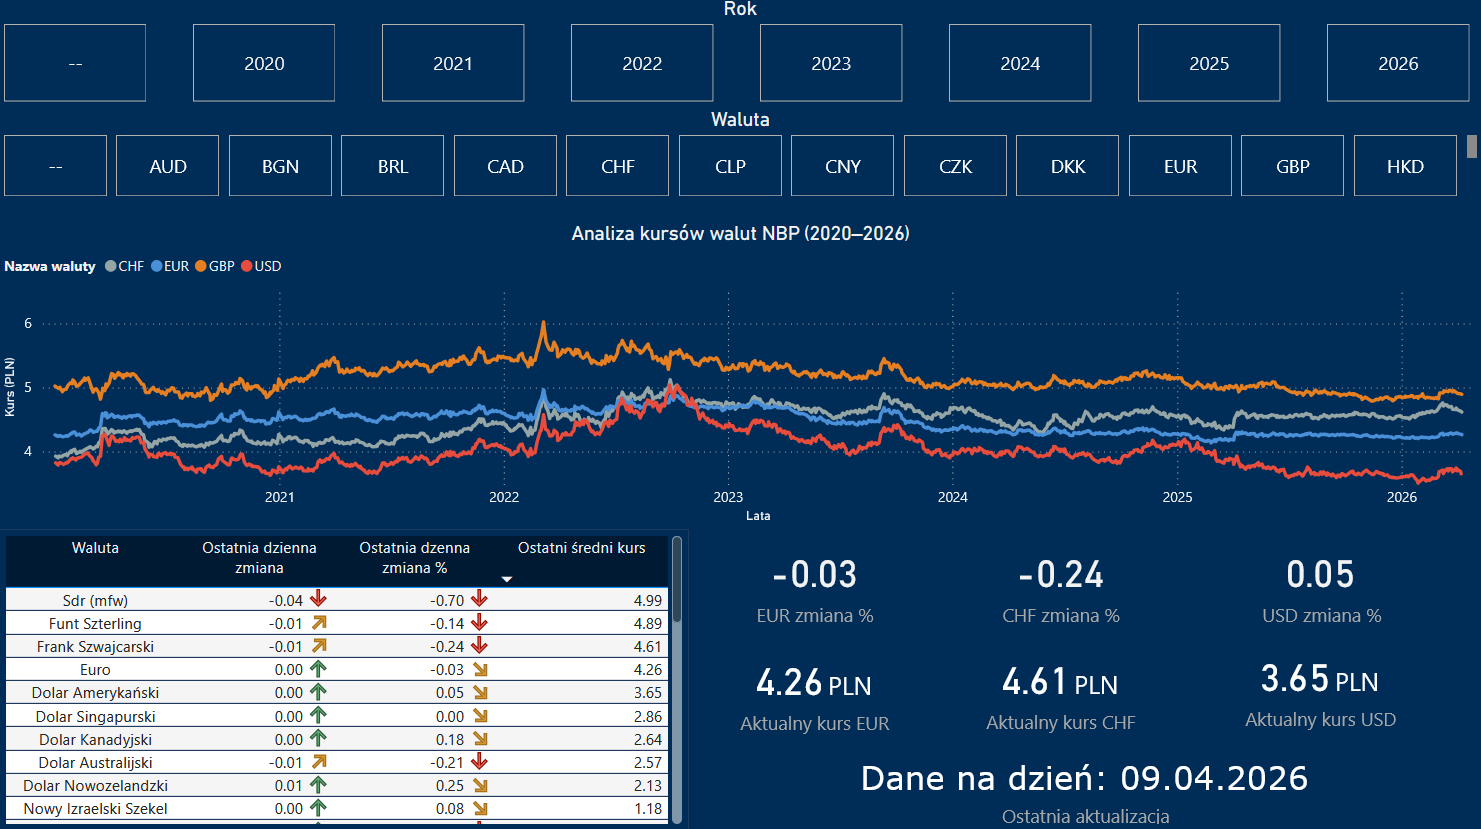

This screenshot's page, from the dashboard's own definition file:
{"tool":"powerbi","page":{"name":"Page 1","canvas":[1280,720],"ordinal":0},"visuals":[{"type":"lineChart","title":"Analiza kursów walut NBP (2020–2026)","fields":{"Category":["gold_dim_date.full_date"],"Y":["Sum(gold_fact_exchange_rate.mid_rate)"],"Series":["gold_dim_currency.currency_code"]},"box":[0,194.2,1280,265.5],"z":0},{"type":"advancedSlicerVisual","title":"Rok","fields":{"Values":["gold_dim_date.year"]},"box":[0,0,1280,96.1],"z":1000},{"type":"advancedSlicerVisual","title":"Waluta","fields":{"Values":["gold_dim_currency.currency_code"]},"box":[0,96.1,1280,82.6],"z":2000},{"type":"tableEx","fields":{"Values":["gold_dim_currency.currency_name","gold_dim_currency.Latest Daily Change","gold_dim_currency.Latest Daily Change %","gold_dim_currency.Latest Mid Rate"]},"box":[0,459.7,596.1,260.3],"z":3000},{"type":"advanceCardE03760C5AB684758B56AA29F9E6C257B","fields":{"mainMeasure":["gold_dim_currency.EUR zmiana %"]},"box":[613.7,459.7,180.8,100.2],"z":4000},{"type":"advanceCardE03760C5AB684758B56AA29F9E6C257B","fields":{"mainMeasure":["gold_dim_currency.USD zmiana %"]},"box":[1041.4,459.7,199.4,100.2],"z":5000},{"type":"advanceCardE03760C5AB684758B56AA29F9E6C257B","fields":{"mainMeasure":["gold_dim_currency.CHF zmiana %"]},"box":[828.5,459.7,175.6,100.2],"z":6000},{"type":"advanceCardE03760C5AB684758B56AA29F9E6C257B","fields":{"mainMeasure":["gold_dim_currency.Ostatnia aktualizacja"]},"box":[595.6,649.7,684,70.3],"z":7000},{"type":"advanceCardE03760C5AB684758B56AA29F9E6C257B","fields":{"mainMeasure":["gold_dim_currency.Aktualny kurs EUR"]},"box":[612.3,559.5,183.8,86.4],"z":8000},{"type":"advanceCardE03760C5AB684758B56AA29F9E6C257B","fields":{"mainMeasure":["gold_dim_currency.Aktualny kurs CHF"]},"box":[820.6,559.5,191,83.7],"z":9000},{"type":"advanceCardE03760C5AB684758B56AA29F9E6C257B","fields":{"mainMeasure":["gold_dim_currency.Aktualny kurs USD"]},"box":[1048.9,548.6,183.8,101],"z":10000}]}

Visuals, with their boxes in screenshot pixels (x1, y1, x2, y2), scaled from the page's 1280x720 canvas onto the 1481x829 screenshot:
"Analiza kursów walut NBP (2020–2026)" lineChart: (left=0, top=224, right=1480, bottom=529)
"Rok" advancedSlicerVisual: (left=0, top=0, right=1480, bottom=111)
"Waluta" advancedSlicerVisual: (left=0, top=111, right=1480, bottom=206)
tableEx - gold_dim_currency.currency_name x gold_dim_currency.Latest Daily Change: (left=0, top=529, right=690, bottom=828)
advanceCardE03760C5AB684758B56AA29F9E6C257B - gold_dim_currency.EUR zmiana %: (left=710, top=529, right=919, bottom=645)
advanceCardE03760C5AB684758B56AA29F9E6C257B - gold_dim_currency.USD zmiana %: (left=1205, top=529, right=1436, bottom=645)
advanceCardE03760C5AB684758B56AA29F9E6C257B - gold_dim_currency.CHF zmiana %: (left=959, top=529, right=1162, bottom=645)
advanceCardE03760C5AB684758B56AA29F9E6C257B - gold_dim_currency.Ostatnia aktualizacja: (left=689, top=748, right=1480, bottom=828)
advanceCardE03760C5AB684758B56AA29F9E6C257B - gold_dim_currency.Aktualny kurs EUR: (left=708, top=644, right=921, bottom=744)
advanceCardE03760C5AB684758B56AA29F9E6C257B - gold_dim_currency.Aktualny kurs CHF: (left=949, top=644, right=1170, bottom=741)
advanceCardE03760C5AB684758B56AA29F9E6C257B - gold_dim_currency.Aktualny kurs USD: (left=1214, top=632, right=1426, bottom=748)
